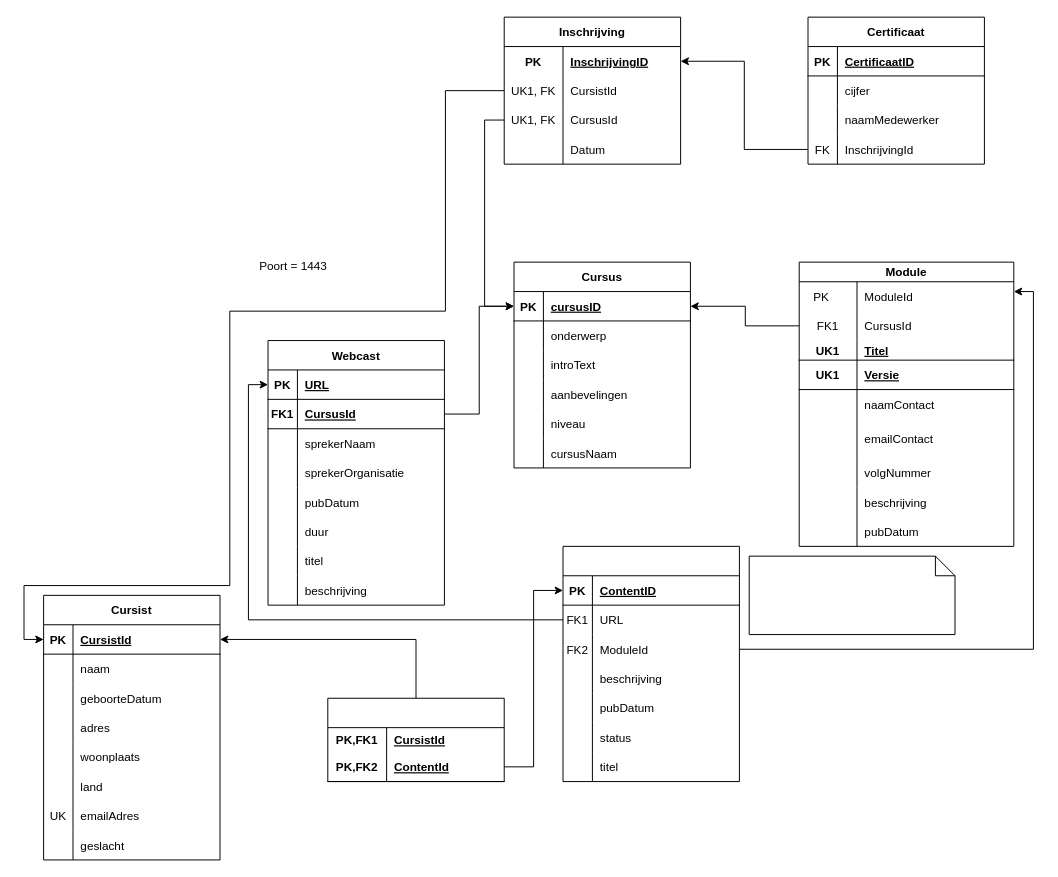
This 1058x877 diagram has some shape labels left out. The shapes that lost their labels are listed below. From the top down, each one's box as (x1, y1, x2, y2) in pixels, then its label:
(748, 555, 955, 635): CK: URL = NULL AND Versie = NOT NULL OR URL = NOT NULL AND Versie = NULL
(562, 545, 739, 782): Content-Item
(327, 697, 504, 782): Cursist_Content-item
